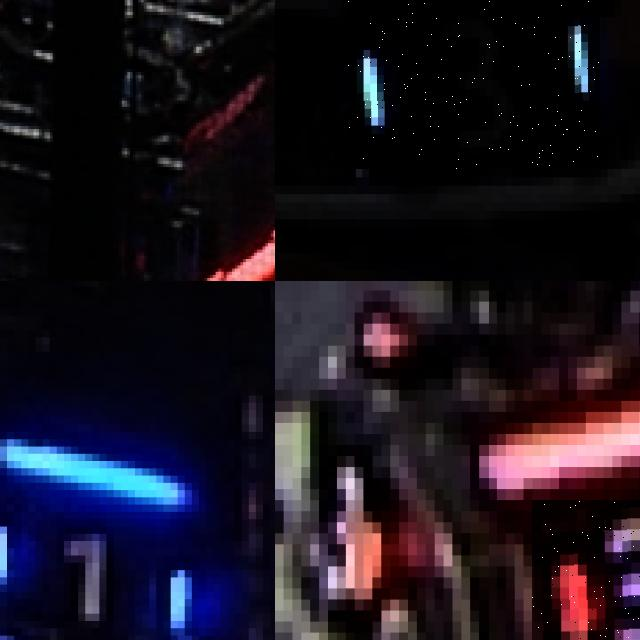B1: (0, 511, 191, 635)
B3: (348, 0, 600, 169)
R3: (284, 423, 390, 610), (532, 500, 640, 640)
